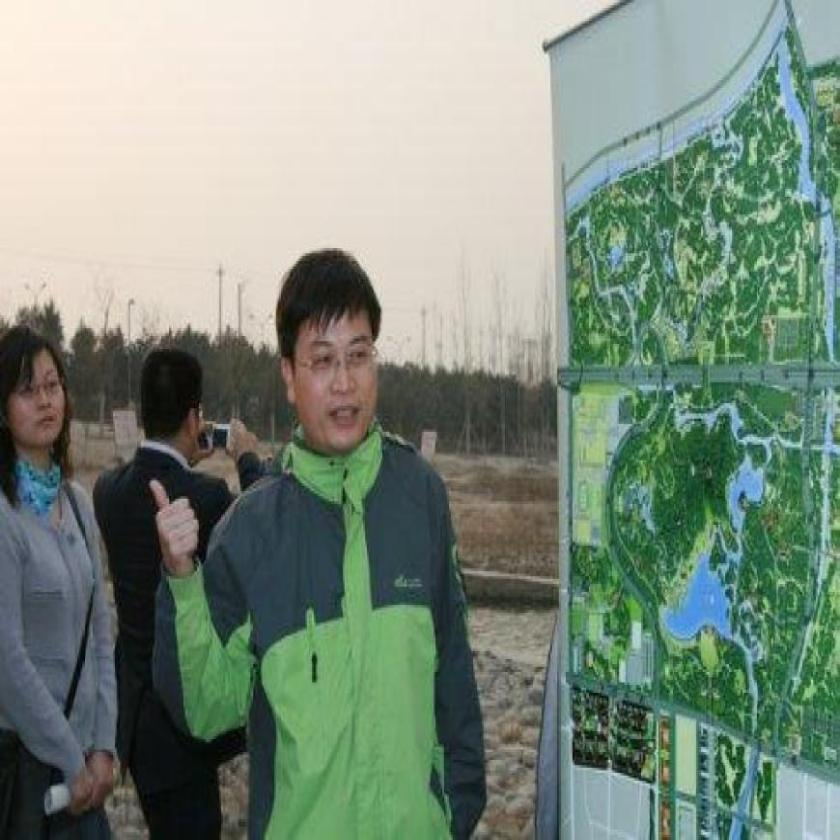Sin_casco: (266, 236, 395, 466), (0, 324, 81, 472)
